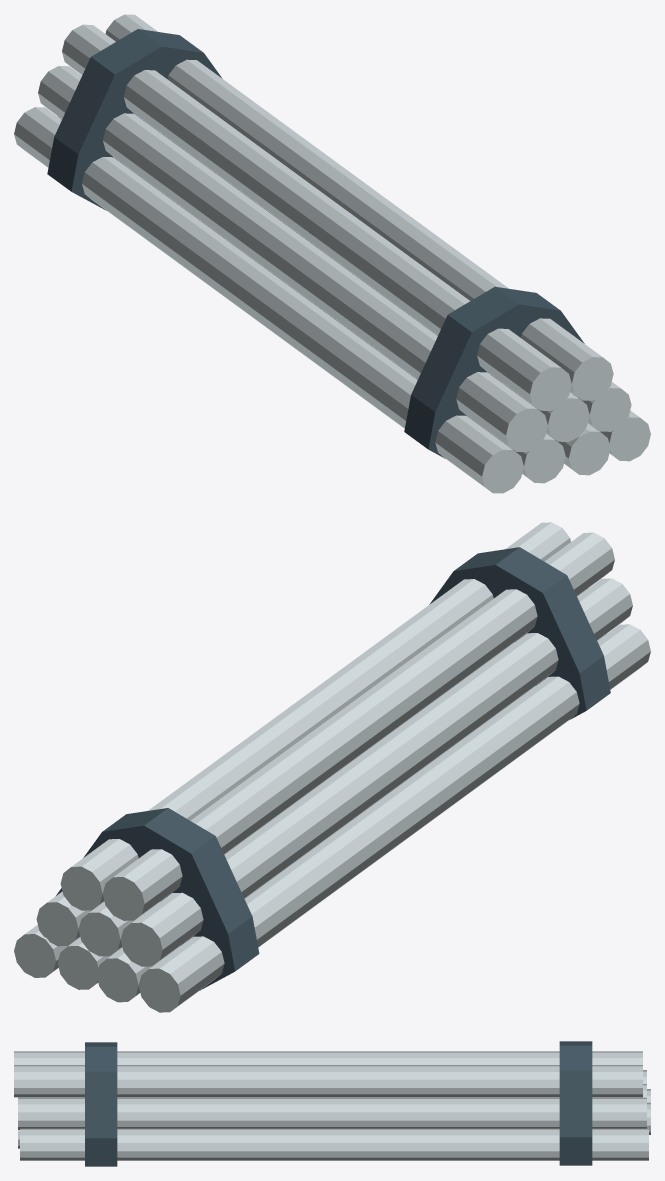
Rendered from MetalBar.gltf.
3 renders of one model, top to bottom at view 1: azimuth 30°, elevation 25°; view 2: azimuth 150°, elevation 25°; view 3: azimuth 270°, elevation 25°, orthographic. The views are drawn at different scales.
Parts seen in each view (by area): view 1: model; view 2: model; view 3: model.
Boxes of the visible parts, x1,y1,x2,y2 form: model: [14, 14, 650, 493]; model: [14, 522, 650, 1012]; model: [14, 1041, 650, 1166].
Bounding box in the file's own units: 0.3532 × 0.3 × 1.57.
